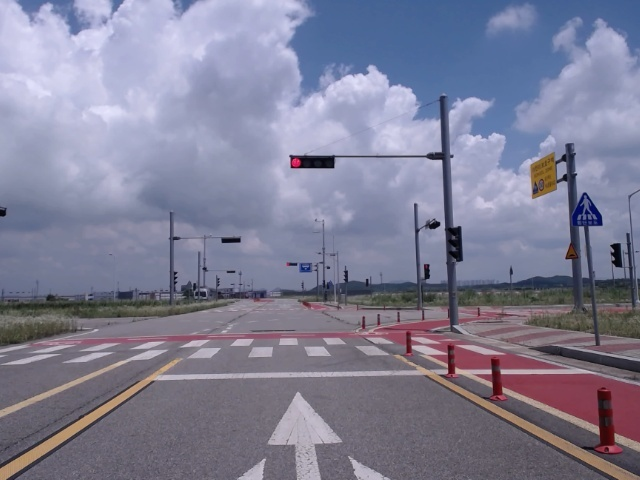red_4: (290, 156, 335, 169)
